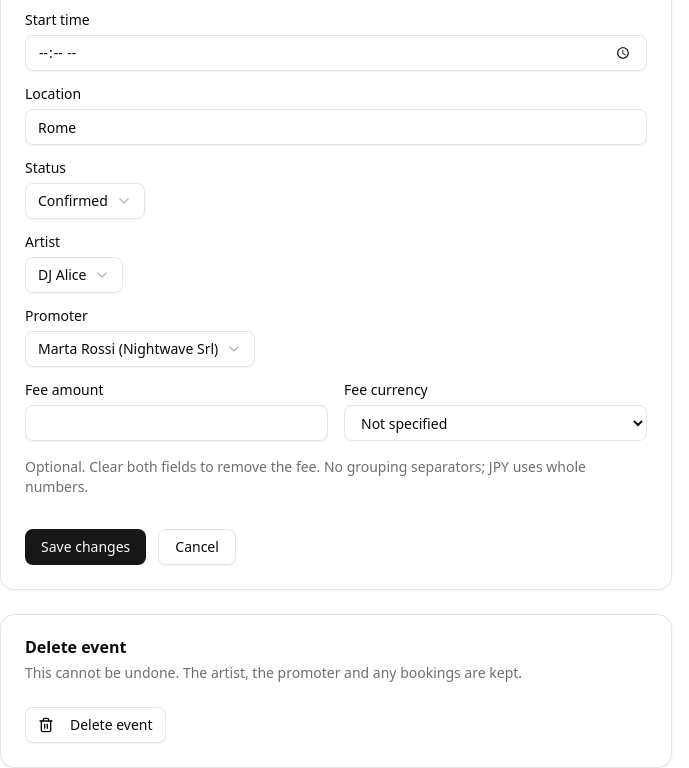
Test: deletes the event only after confirmation, then returns to the list
The width and height of the screenshot is (689, 768).
Later steps or results of the test are not shown.
(page scrolled)
Expected: the text "The artist, the promoter and any bookings are kept" is shown, x1=25 y1=663 x2=522 y2=682
Click the button "Delete event" at (95, 725), box x1=25 y1=707 x2=166 y2=743
(page scrolled)
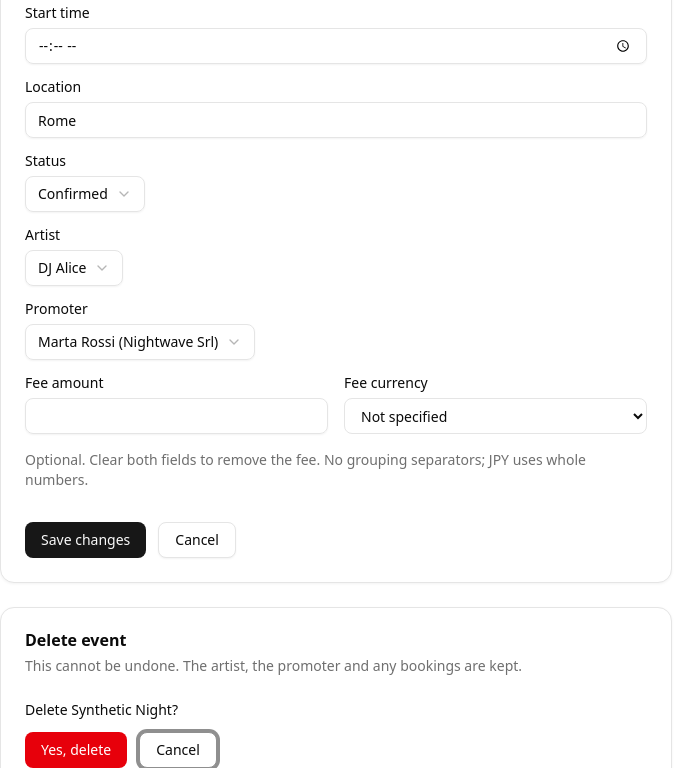
Now the text "Delete Synthetic Night?" is shown, box x1=25 y1=700 x2=178 y2=719
